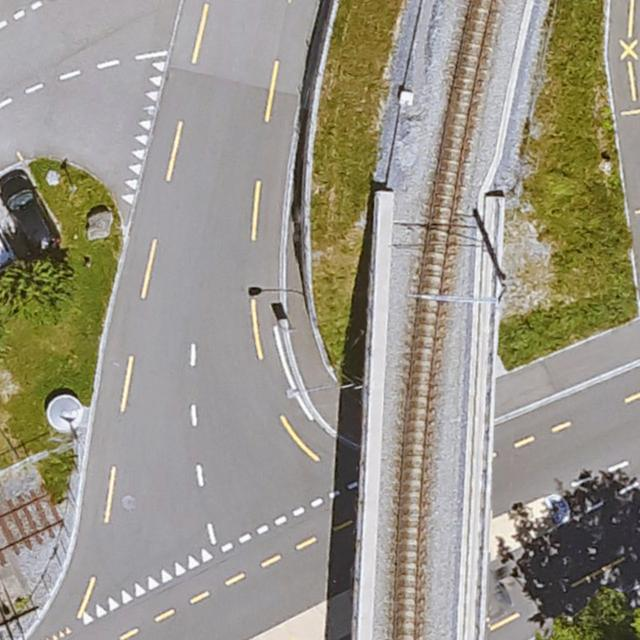tree: (535, 585, 638, 640), (0, 255, 76, 325)
